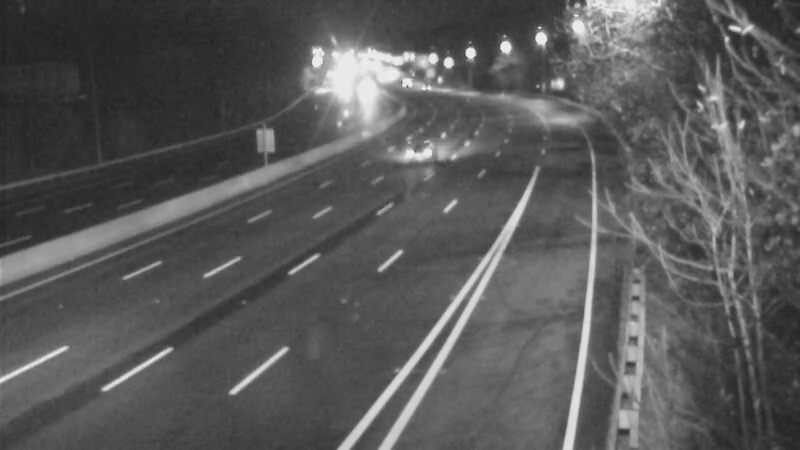vehicle: (402, 63, 452, 113), (397, 124, 447, 174)
